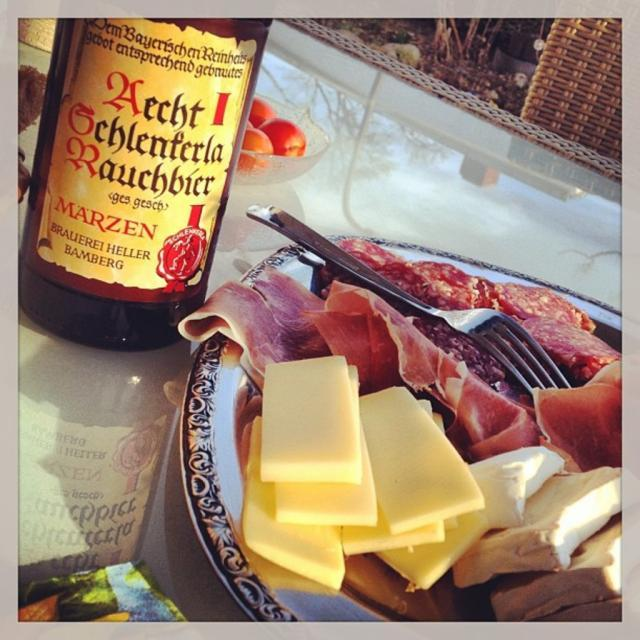Cheese: (245, 354, 495, 592)
